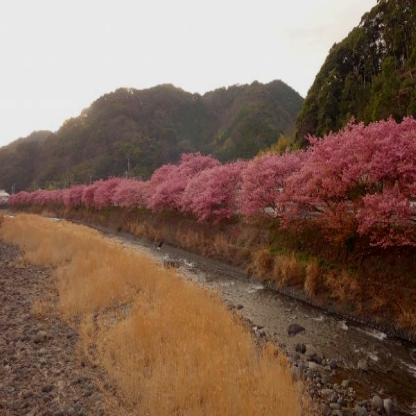KawazuSakura: (6, 112, 416, 251)
